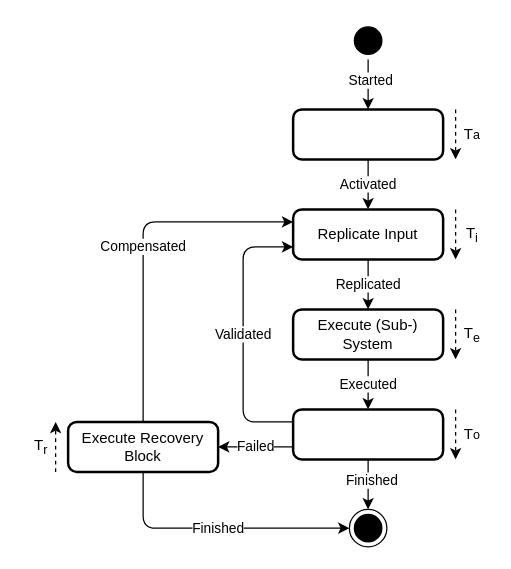
The diagram is 511 pixels wide and 569 high, and some of its shapes have lost their labels. Each missing label, with the centre of its shape:
Activate Recovery Block: (x=367, y=134)
Validate Output: (x=367, y=434)
